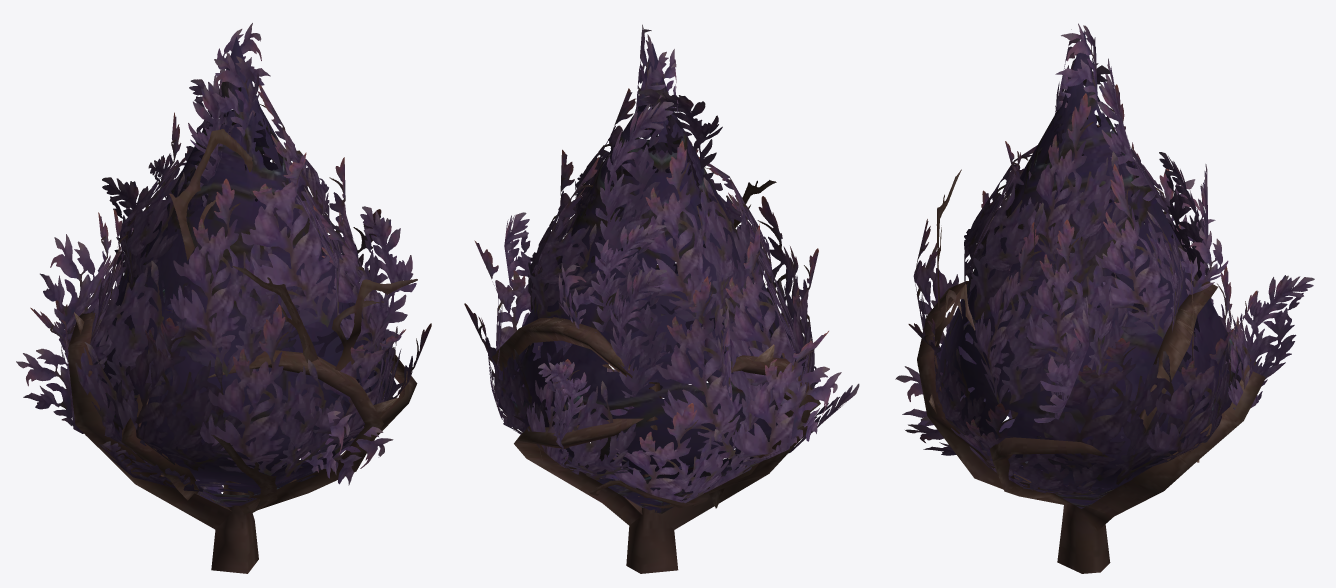
3 renders of one model, left to right at view 1: azimuth 30°, elevation 25°; view 2: azimuth 150°, elevation 25°; view 3: azimuth 270°, elevation 25°, orthographic. The views are drawn at different scales.
Bounding box in the file's own units: 6.08 × 8.57 × 5.98.
Materials: 1 (1 with a texture image).
